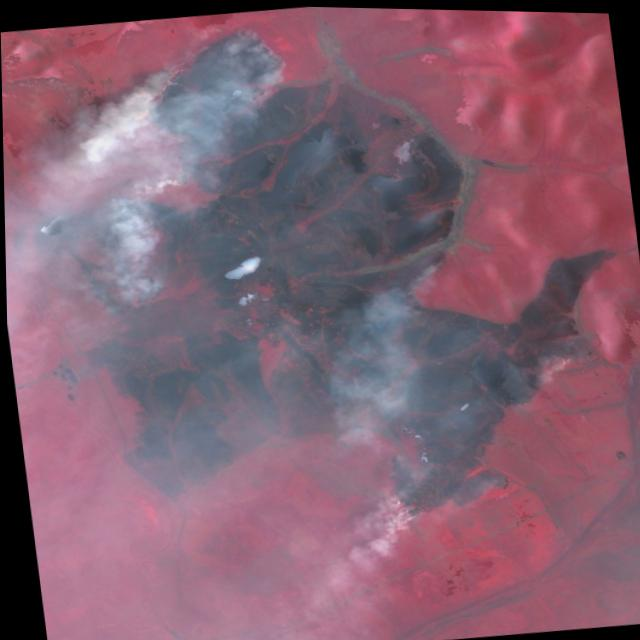fire: (134, 18, 305, 196), (363, 432, 524, 527), (394, 244, 467, 298), (542, 334, 608, 380)
